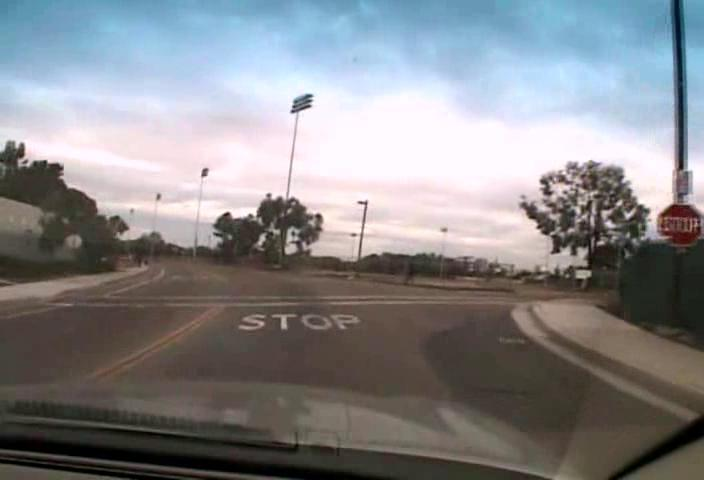stop: (658, 203, 703, 247)
